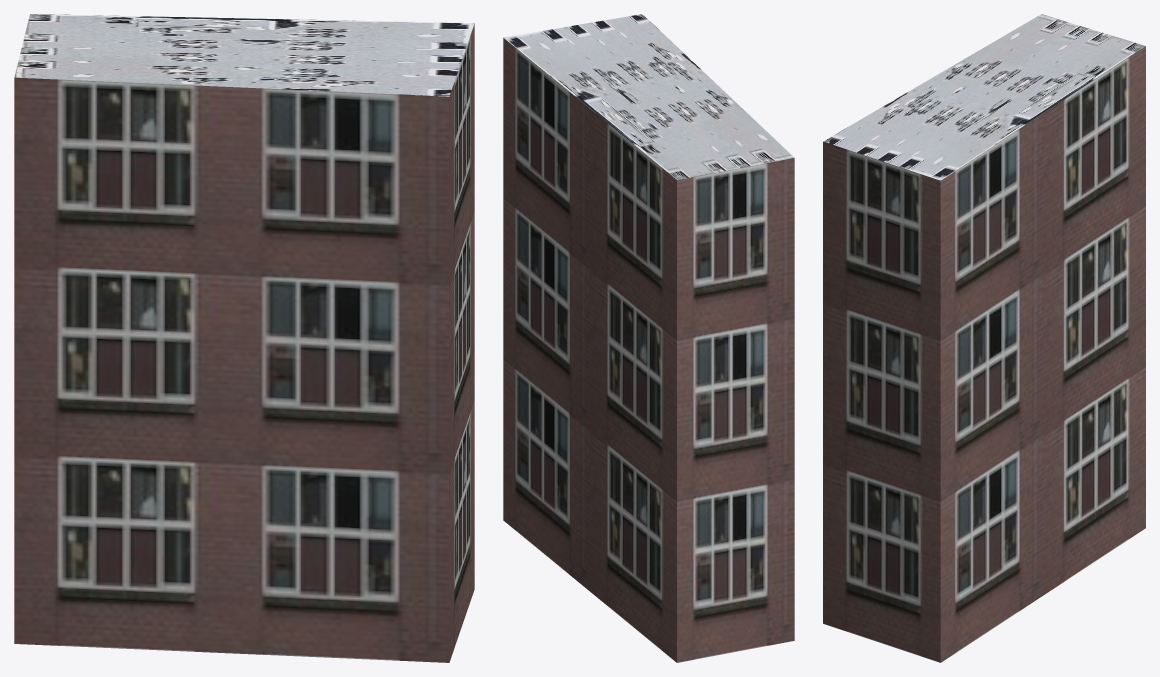
File: ResTex__2021.fbx
3 views of the same model, side by side, from view 1: azimuth 30°, elevation 25°; view 2: azimuth 150°, elevation 25°; view 3: azimuth 270°, elevation 25° (orthographic). The views are drawn at different scales.
Visible parts, largest first — view 1: CityEngineMaterial_12_m, CityEngineMaterial_4_m; view 2: CityEngineMaterial_12_m, CityEngineMaterial_4_m; view 3: CityEngineMaterial_12_m, CityEngineMaterial_4_m.
Boxes of the visible parts, <box> form: CityEngineMaterial_12_m: <box>14,24,474,662</box>; CityEngineMaterial_4_m: <box>14,14,474,96</box>; CityEngineMaterial_12_m: <box>503,38,794,662</box>; CityEngineMaterial_4_m: <box>503,14,794,179</box>; CityEngineMaterial_12_m: <box>823,46,1145,662</box>; CityEngineMaterial_4_m: <box>823,14,1145,180</box>.
Size of the model in its own units: 6.67 by 9 by 5.46.
2 materials, 2 textured.
